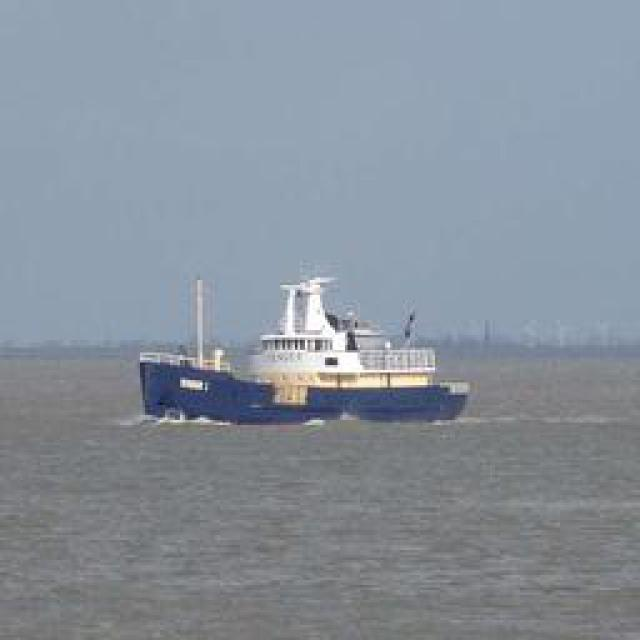Ship: (141, 281, 479, 429)
